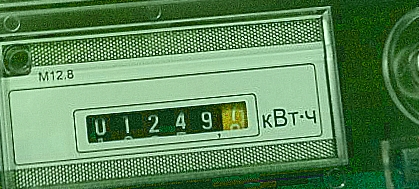0: (92, 114, 108, 136)
1: (119, 112, 133, 134)
2: (144, 110, 162, 134)
4: (173, 108, 188, 129)
7: (226, 100, 241, 121)
9: (199, 108, 214, 130)
screen: (69, 87, 264, 155)
